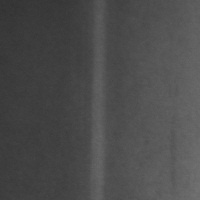scratches: (88, 9, 107, 192)
